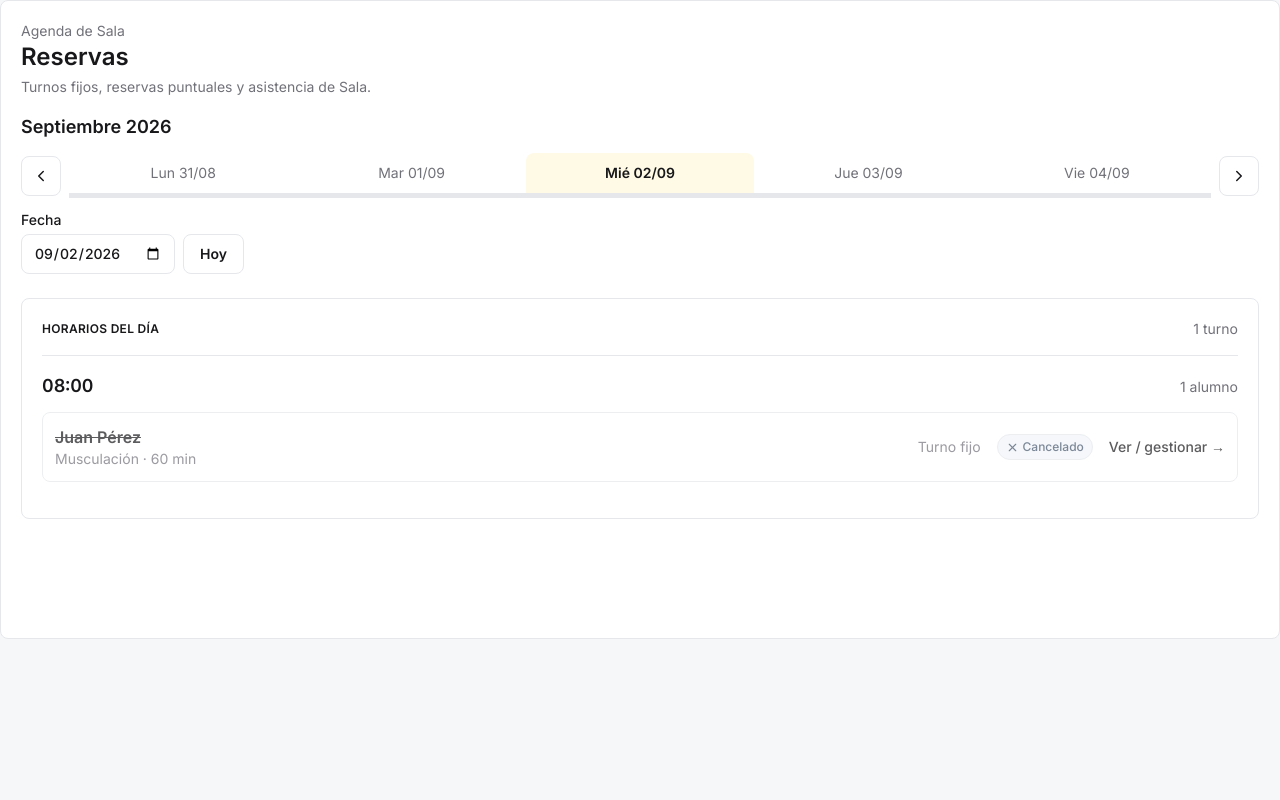
Test case: Profesor vertical agenda › shows cancelled bookings as muted history with a correction action
Click the button with aria-label "Juan Pérez 08:00 Cancelado" at (98, 437), box [42, 412, 1238, 482]
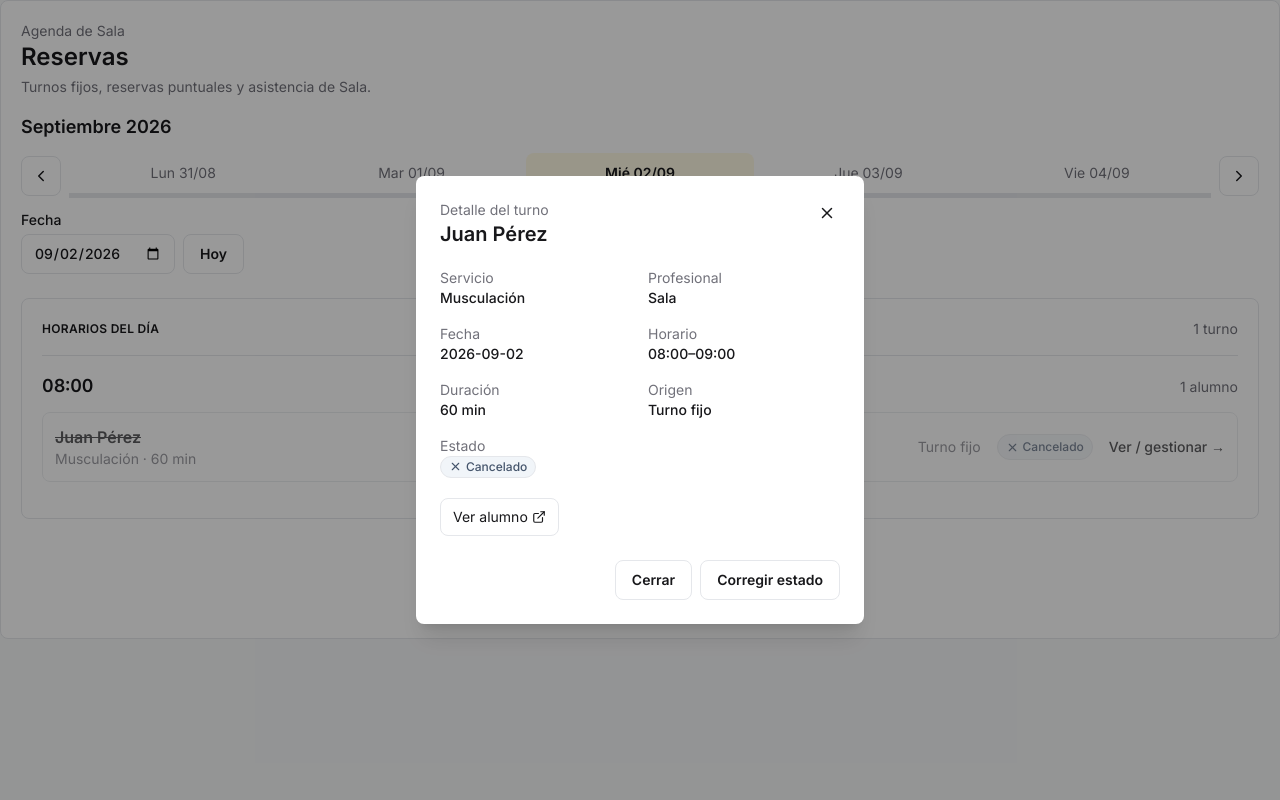
Expected: the button "Corregir estado" is shown, [700, 560, 840, 600]
Expected: the dialog shows "Cancelado", [466, 459, 527, 474]
